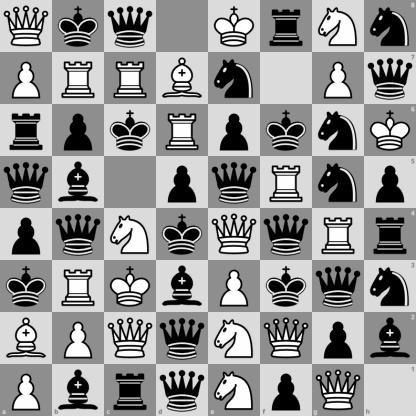B: (1, 313, 52, 364), (157, 53, 208, 104)
K: (364, 104, 416, 156), (105, 261, 156, 312), (209, 1, 260, 52)
N: (209, 364, 260, 416), (105, 209, 156, 260), (209, 313, 260, 364), (313, 1, 364, 52)
P: (0, 364, 52, 416), (1, 53, 52, 104), (53, 313, 104, 364), (209, 261, 260, 312), (313, 53, 364, 104)
Q: (312, 364, 364, 416), (1, 1, 52, 52), (105, 313, 156, 364), (209, 209, 260, 260), (261, 313, 312, 364)
R: (53, 53, 104, 104), (53, 261, 104, 312), (105, 53, 156, 104), (157, 105, 208, 156), (261, 157, 312, 208), (313, 209, 364, 260)
b: (52, 364, 104, 416), (364, 312, 416, 364), (53, 157, 104, 208), (157, 261, 208, 312)
board: (0, 0, 415, 415)
k: (1, 261, 52, 312), (53, 1, 104, 52), (105, 105, 156, 156), (157, 209, 208, 260), (261, 105, 312, 156), (261, 261, 312, 312)
n: (364, 0, 416, 52), (364, 260, 416, 312), (209, 53, 260, 104), (313, 105, 364, 156), (313, 157, 364, 208)
p: (364, 156, 416, 209), (260, 364, 312, 416), (1, 209, 52, 260), (53, 105, 104, 156), (157, 157, 208, 208), (209, 105, 260, 156), (313, 313, 364, 364)
q: (156, 364, 209, 416), (364, 52, 416, 104), (1, 157, 52, 208), (53, 209, 104, 260), (105, 1, 156, 52), (157, 313, 208, 364), (209, 157, 260, 208), (261, 209, 312, 260), (313, 261, 364, 312)
r: (104, 364, 156, 416), (364, 209, 416, 260), (1, 105, 52, 156), (261, 1, 312, 52)
